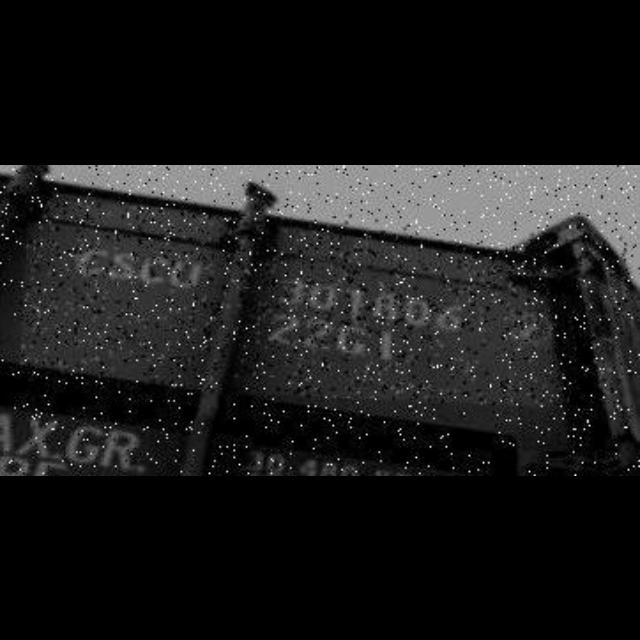0: (403, 290, 431, 330), (308, 276, 336, 312)
1: (344, 283, 368, 321), (373, 328, 397, 360)
2: (299, 312, 337, 358), (510, 305, 546, 347), (266, 309, 302, 349)
3: (276, 274, 304, 310)
6: (434, 296, 468, 340)
8: (372, 289, 396, 325)
a: (0, 409, 20, 455)
c: (75, 240, 111, 282), (141, 250, 173, 288)
g: (64, 421, 106, 467), (335, 318, 371, 364)
r: (102, 425, 138, 471)
s: (109, 245, 137, 283)
u: (170, 253, 204, 293)
x: (16, 412, 64, 463)
